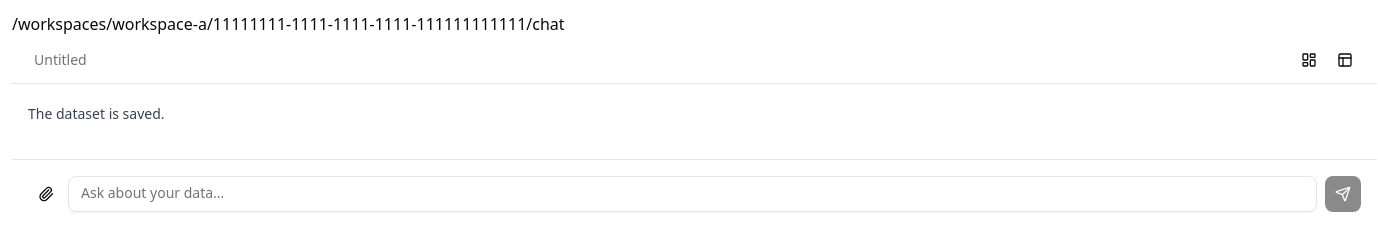
Scenario: chat thread identity › uses the chat's thread for Canvas even with incomplete/stale URL params ()
Check: the text "The dataset is saved." is shown, box [28,104,164,124]
Click the button named "Canvas".
click(1345, 60)  # box [1329,44,1361,76]
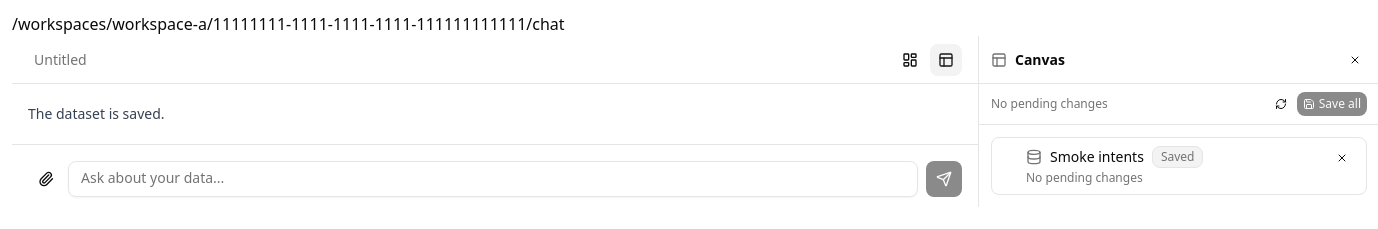
Check: the text "Smoke intents" is shown, box [1050,147,1144,167]
